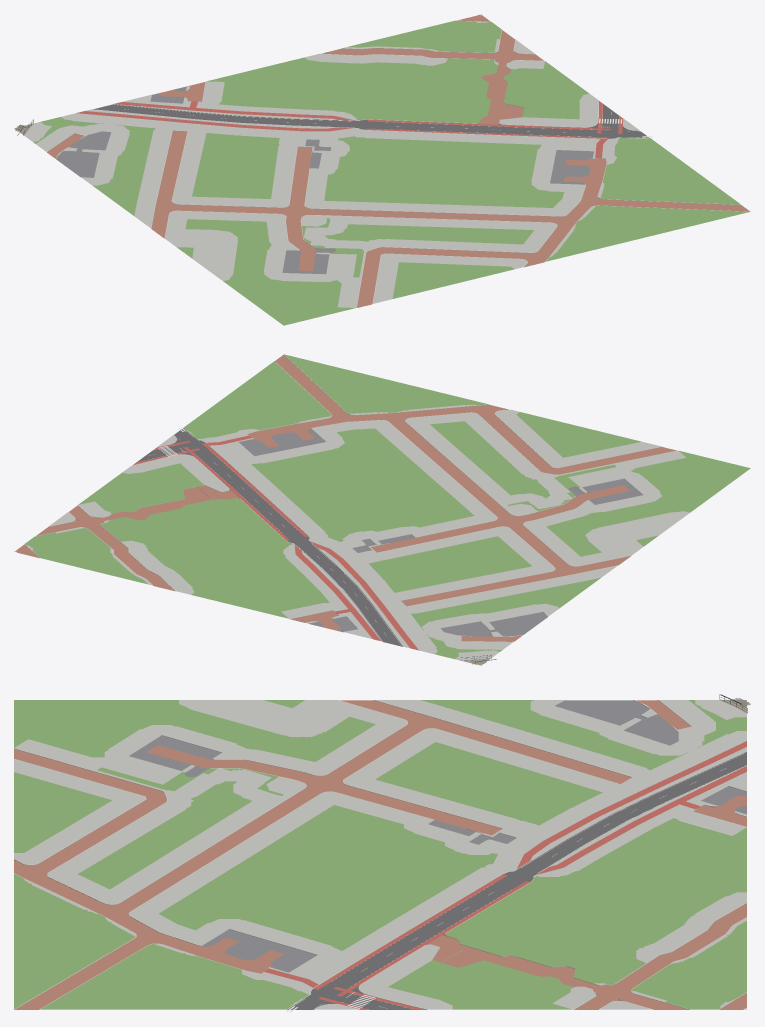
Rendered from ground_5_7.glb.
The picture shows the model from 3 angles, top to bottom: view 1: azimuth 30°, elevation 25°; view 2: azimuth 150°, elevation 25°; view 3: azimuth 270°, elevation 25°; orthographic projection. The views are drawn at different scales.
Parts seen in each view (by area): view 1: ground_5_7; view 2: ground_5_7; view 3: ground_5_7.
Boxes of the visible parts, <box> form: ground_5_7: <box>14,14,750,325</box>; ground_5_7: <box>14,354,750,665</box>; ground_5_7: <box>14,694,750,1012</box>.
Bounding box in the file's own units: 204 × 1.67 × 201.
